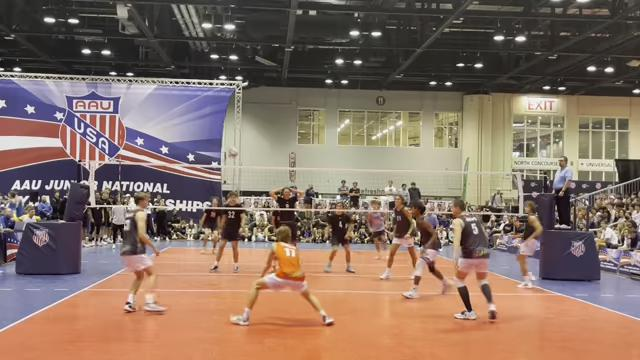ricezione: (228, 220, 338, 326)
